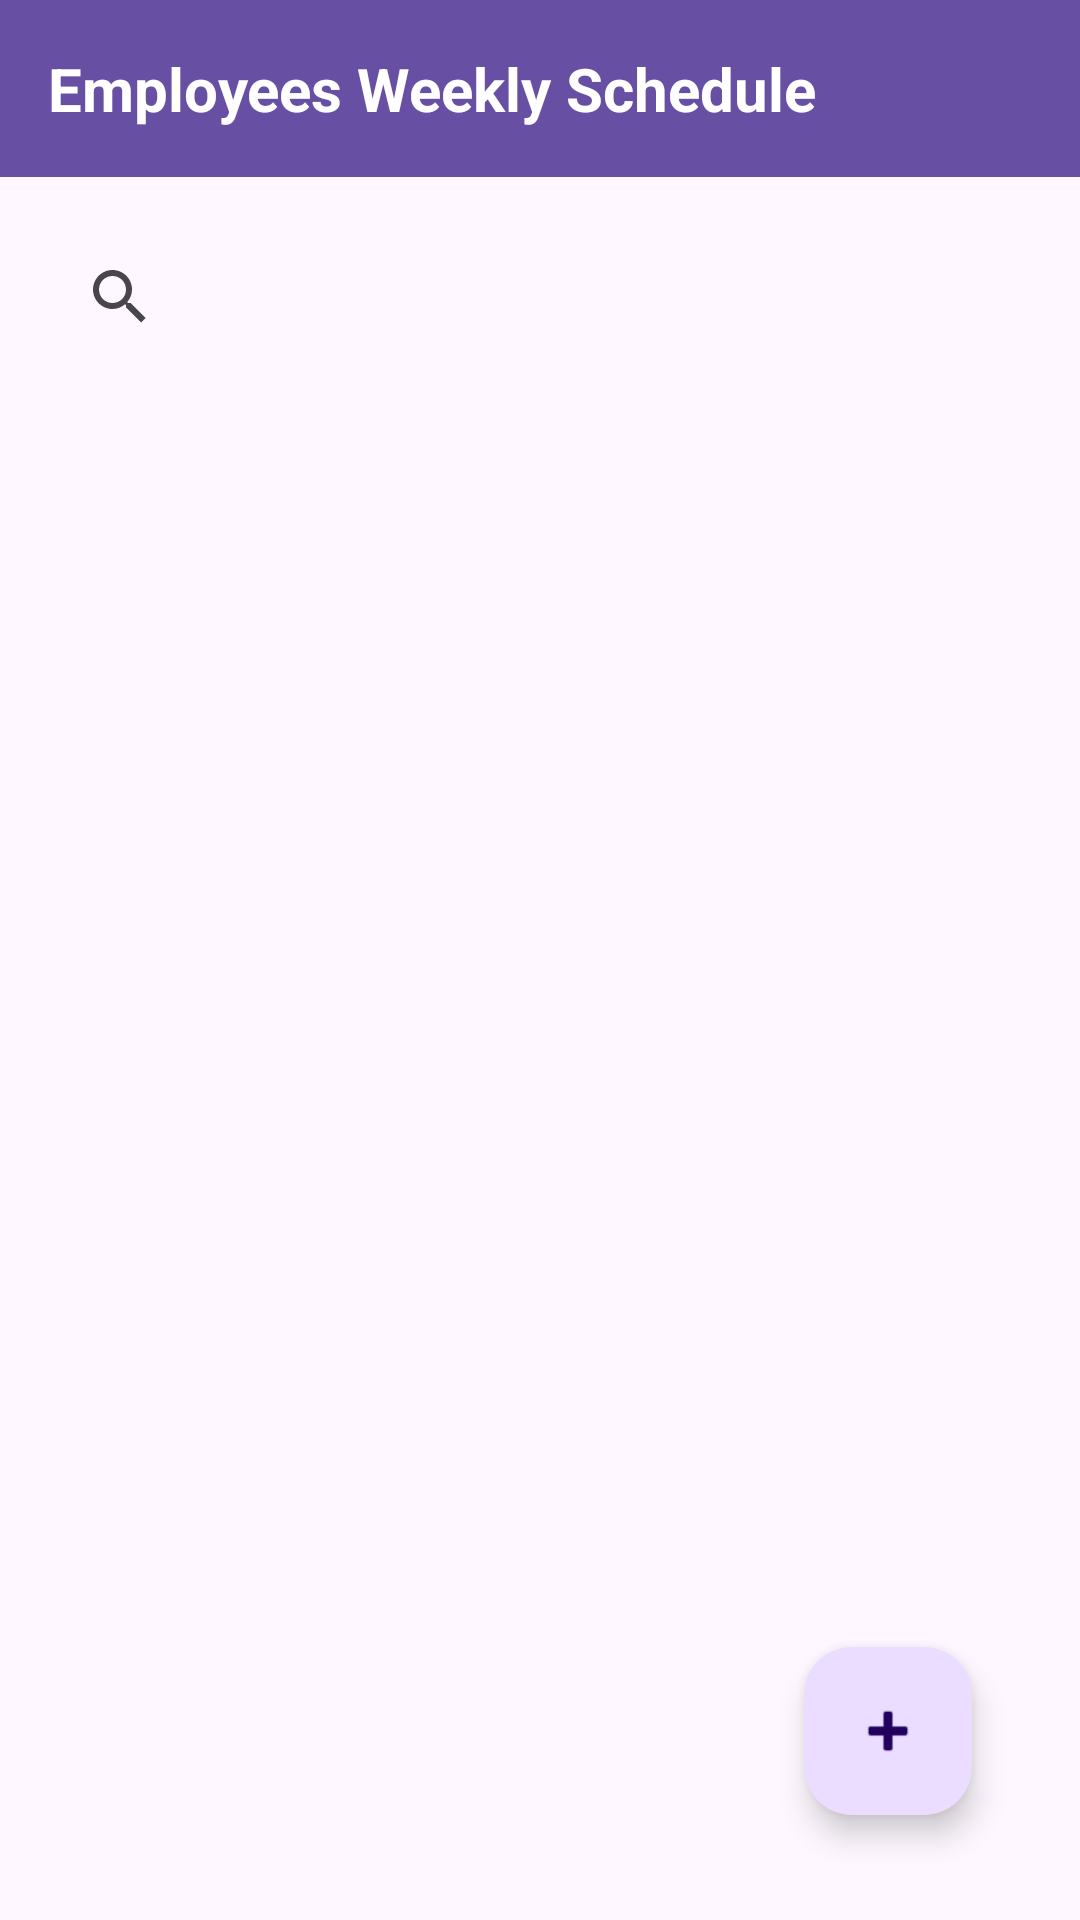

Icons on this 1080×1920 Android screen, each with its box as bbox=[x1, y1, x2, y2]:
add: bbox=[804, 1647, 972, 1815]
